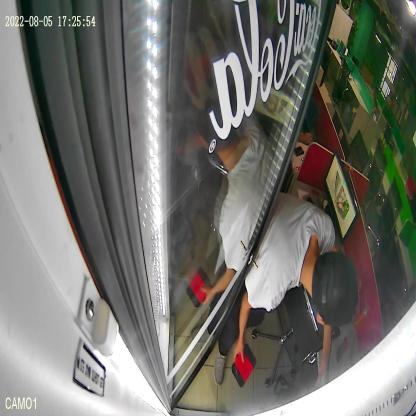red: (231, 344, 257, 388)
